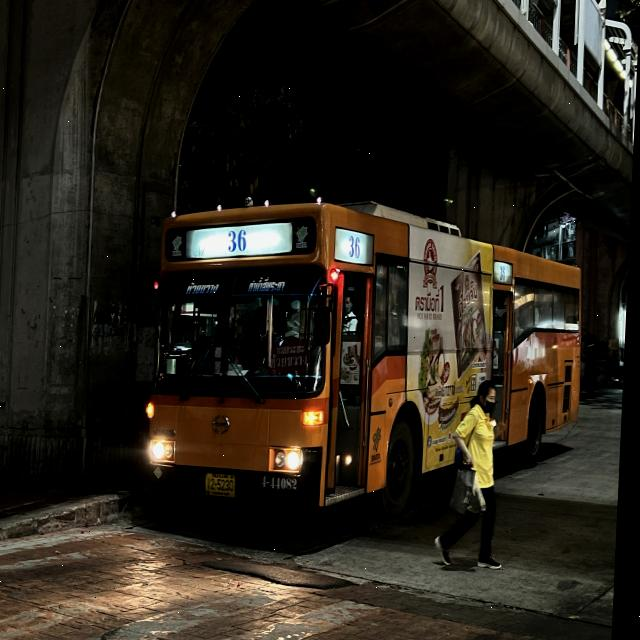BMTA-bus: (127, 183, 598, 541)
Bus-Line-Number: (224, 227, 257, 254), (346, 231, 366, 262)
Destination-Sign-Extra-Bus: (272, 342, 312, 372)
